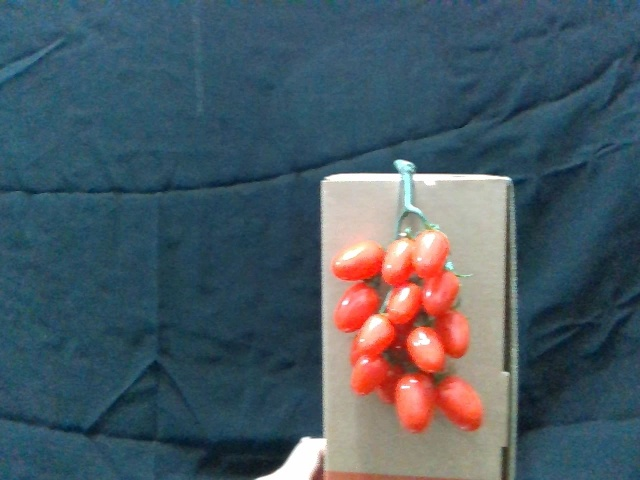tomato: (436, 374, 483, 433), (335, 282, 380, 333), (396, 376, 435, 434), (405, 325, 448, 376), (334, 244, 386, 282), (357, 314, 400, 359), (436, 311, 474, 360), (423, 269, 461, 317), (415, 229, 451, 279), (382, 237, 416, 288), (352, 353, 390, 397), (388, 282, 424, 328)
